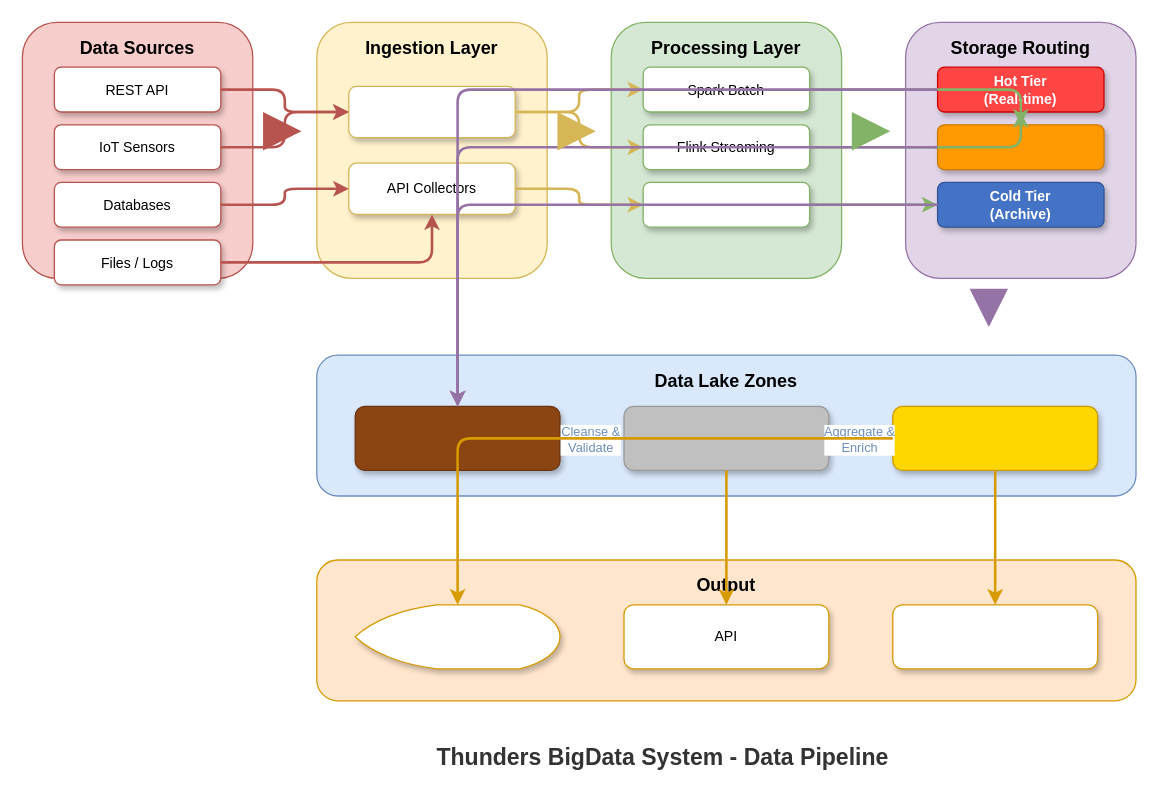
The diagram is 1158 pixels wide and 800 high, and some of its shapes have lost their labels. Each missing label, with the centre of its shape:
Apache Kafka: the point at 432,113
Cleansed / Silver Zone: the point at 727,439
Curated / Gold Zone: the point at 995,439
Dashboard: the point at 458,638
ETL Pipeline: the point at 727,206
ML Models: the point at 995,638
Raw / Bronze Zone: the point at 458,439
Warm Tier (Recent): the point at 1021,148
